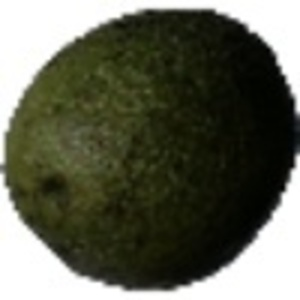abacate: (4, 2, 295, 294)
